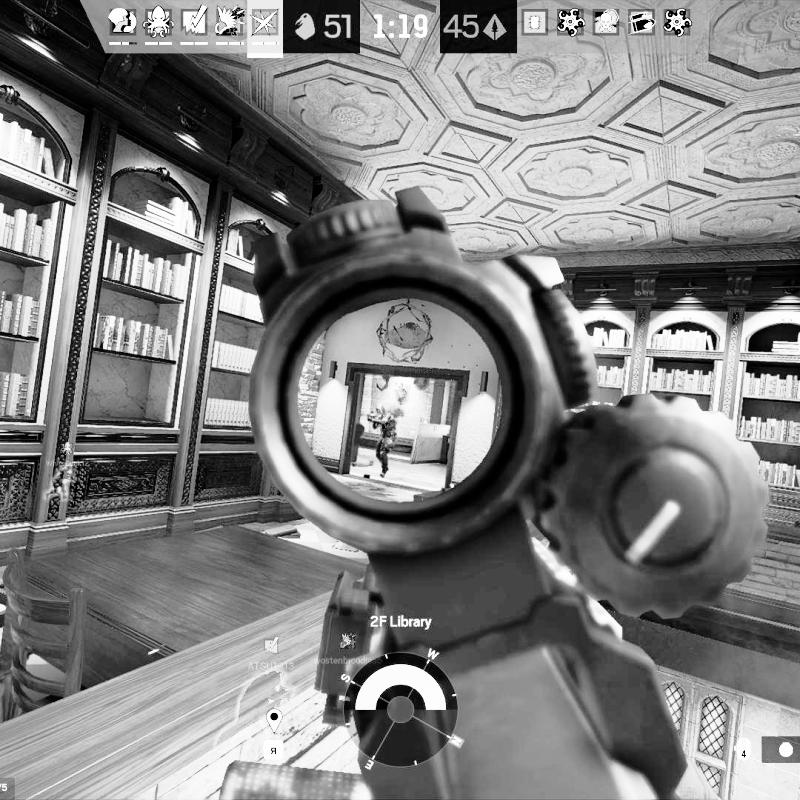Character: (364, 403, 400, 480)
Friend_label: (311, 630, 380, 664), (247, 634, 296, 673)
Head: (376, 403, 386, 416)
